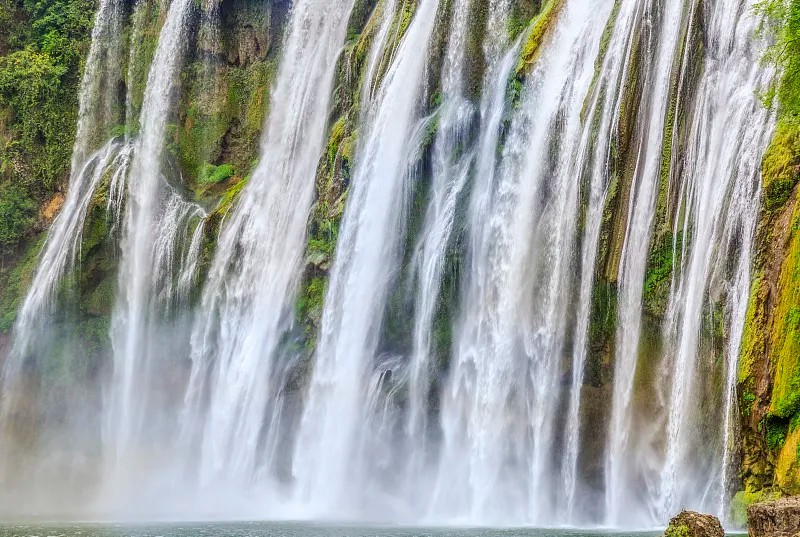Huangguoshu: (17, 1, 779, 529)
